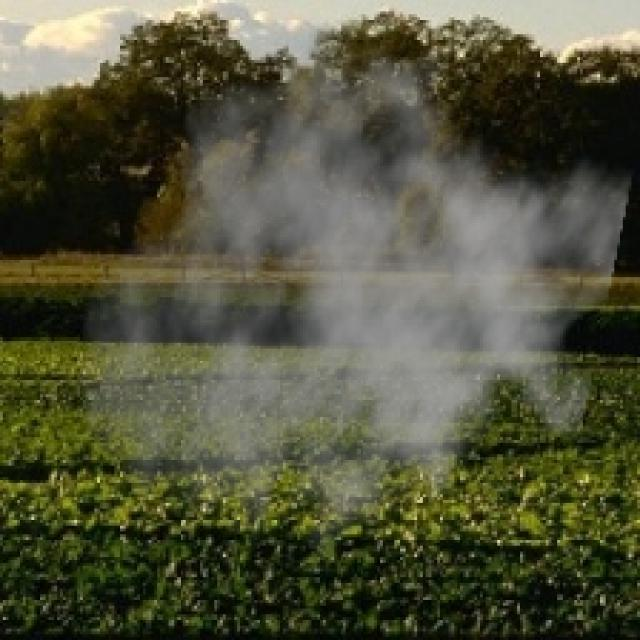Smoke: (75, 23, 634, 586)
